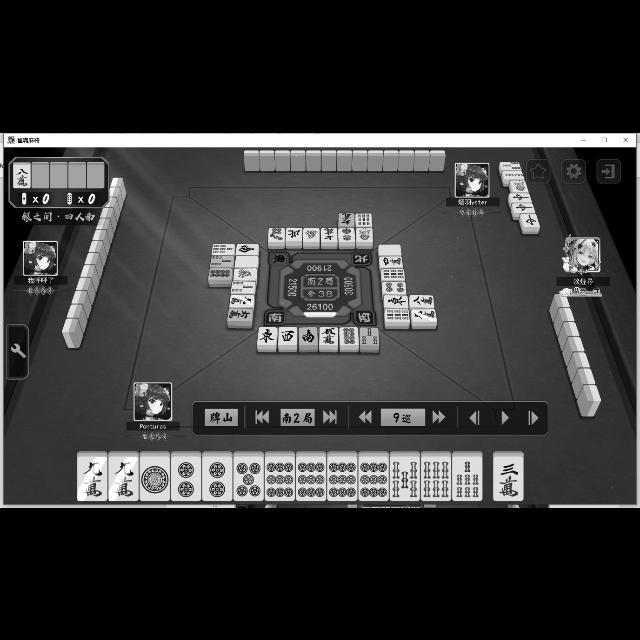1p: (140, 456, 170, 500)
1s: (356, 226, 372, 242), (509, 180, 528, 192)
2p: (170, 456, 200, 500), (202, 456, 232, 500), (338, 227, 356, 241)
2s: (502, 170, 524, 178)
3m: (494, 456, 524, 500)
3s: (360, 328, 380, 344), (210, 255, 234, 267), (232, 281, 254, 293), (500, 160, 522, 170)
4m: (379, 255, 403, 267)
4p: (382, 281, 406, 293)
5m: (320, 327, 338, 345)
5p: (233, 456, 263, 500)
5s: (390, 456, 420, 500)
6m: (228, 307, 252, 321), (338, 212, 354, 225)
6s: (421, 457, 451, 501)
7m: (321, 227, 337, 241)
7p: (268, 227, 284, 241)
7s: (452, 456, 483, 500), (212, 242, 234, 254)
8m: (14, 163, 31, 187), (410, 294, 434, 308)
8p: (339, 327, 358, 345), (208, 268, 232, 278)
9m: (76, 456, 108, 500), (109, 456, 138, 500), (411, 308, 437, 322), (230, 294, 254, 308)
9p: (358, 456, 389, 500), (327, 456, 358, 499), (265, 456, 295, 500), (296, 456, 326, 500)
9s: (384, 308, 410, 320), (382, 268, 404, 280), (356, 212, 372, 226)
chun: (520, 213, 540, 227), (508, 192, 534, 202), (512, 202, 536, 212)
haku: (380, 243, 402, 255), (234, 256, 258, 266)
hatsu: (234, 268, 256, 280), (304, 227, 320, 241)
nan: (298, 326, 318, 344), (236, 243, 258, 255)
pe: (286, 226, 302, 240)
sha: (278, 327, 298, 345)
tou: (257, 326, 277, 344), (384, 294, 408, 308)
